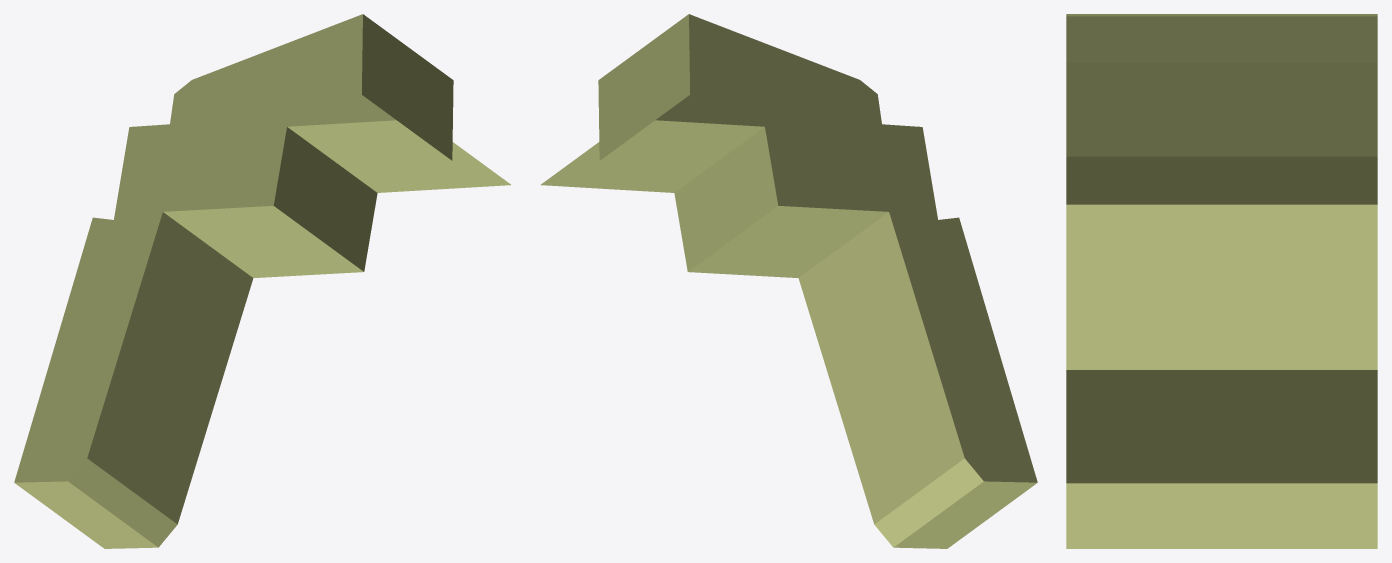
3 renders of one model, left to right at view 1: azimuth 30°, elevation 25°; view 2: azimuth 150°, elevation 25°; view 3: azimuth 270°, elevation 25°, orthographic. The views are drawn at different scales.
Visible parts, largest first — view 1: 0_1_1_3_3_0_1_2_1; view 2: 0_1_1_3_3_0_1_2_1; view 3: 0_1_1_3_3_0_1_2_1.
Part boxes in pixels (x1,y1,x2,y2): 0_1_1_3_3_0_1_2_1: (14, 14, 510, 548); 0_1_1_3_3_0_1_2_1: (541, 14, 1037, 548); 0_1_1_3_3_0_1_2_1: (1066, 14, 1377, 548).
Size of the model in its own units: 23.37 by 21.69 by 9.
